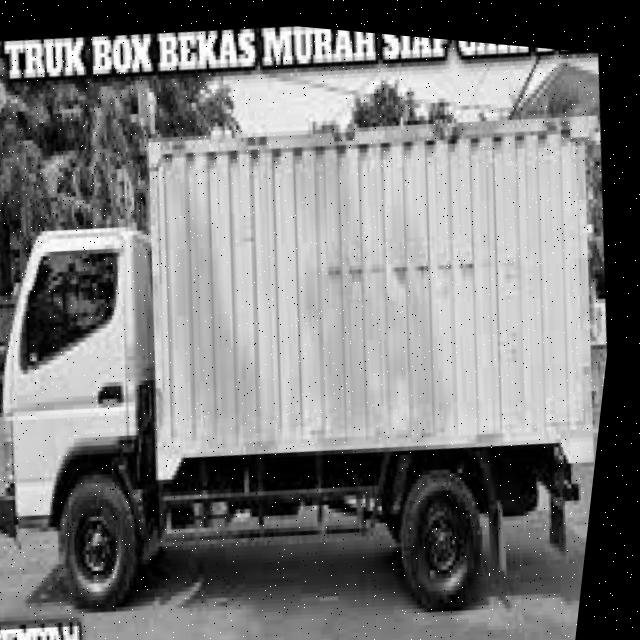truck: (1, 174, 252, 640)
